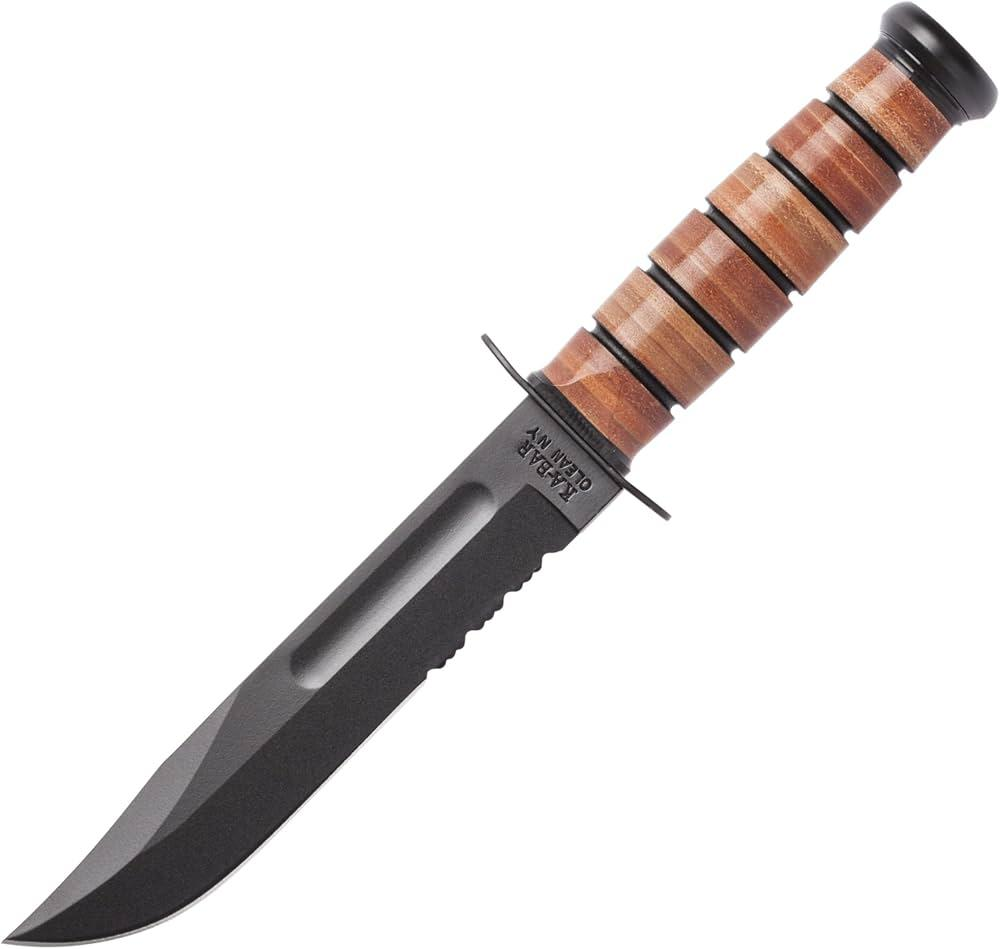Knife: (10, 6, 999, 944)
